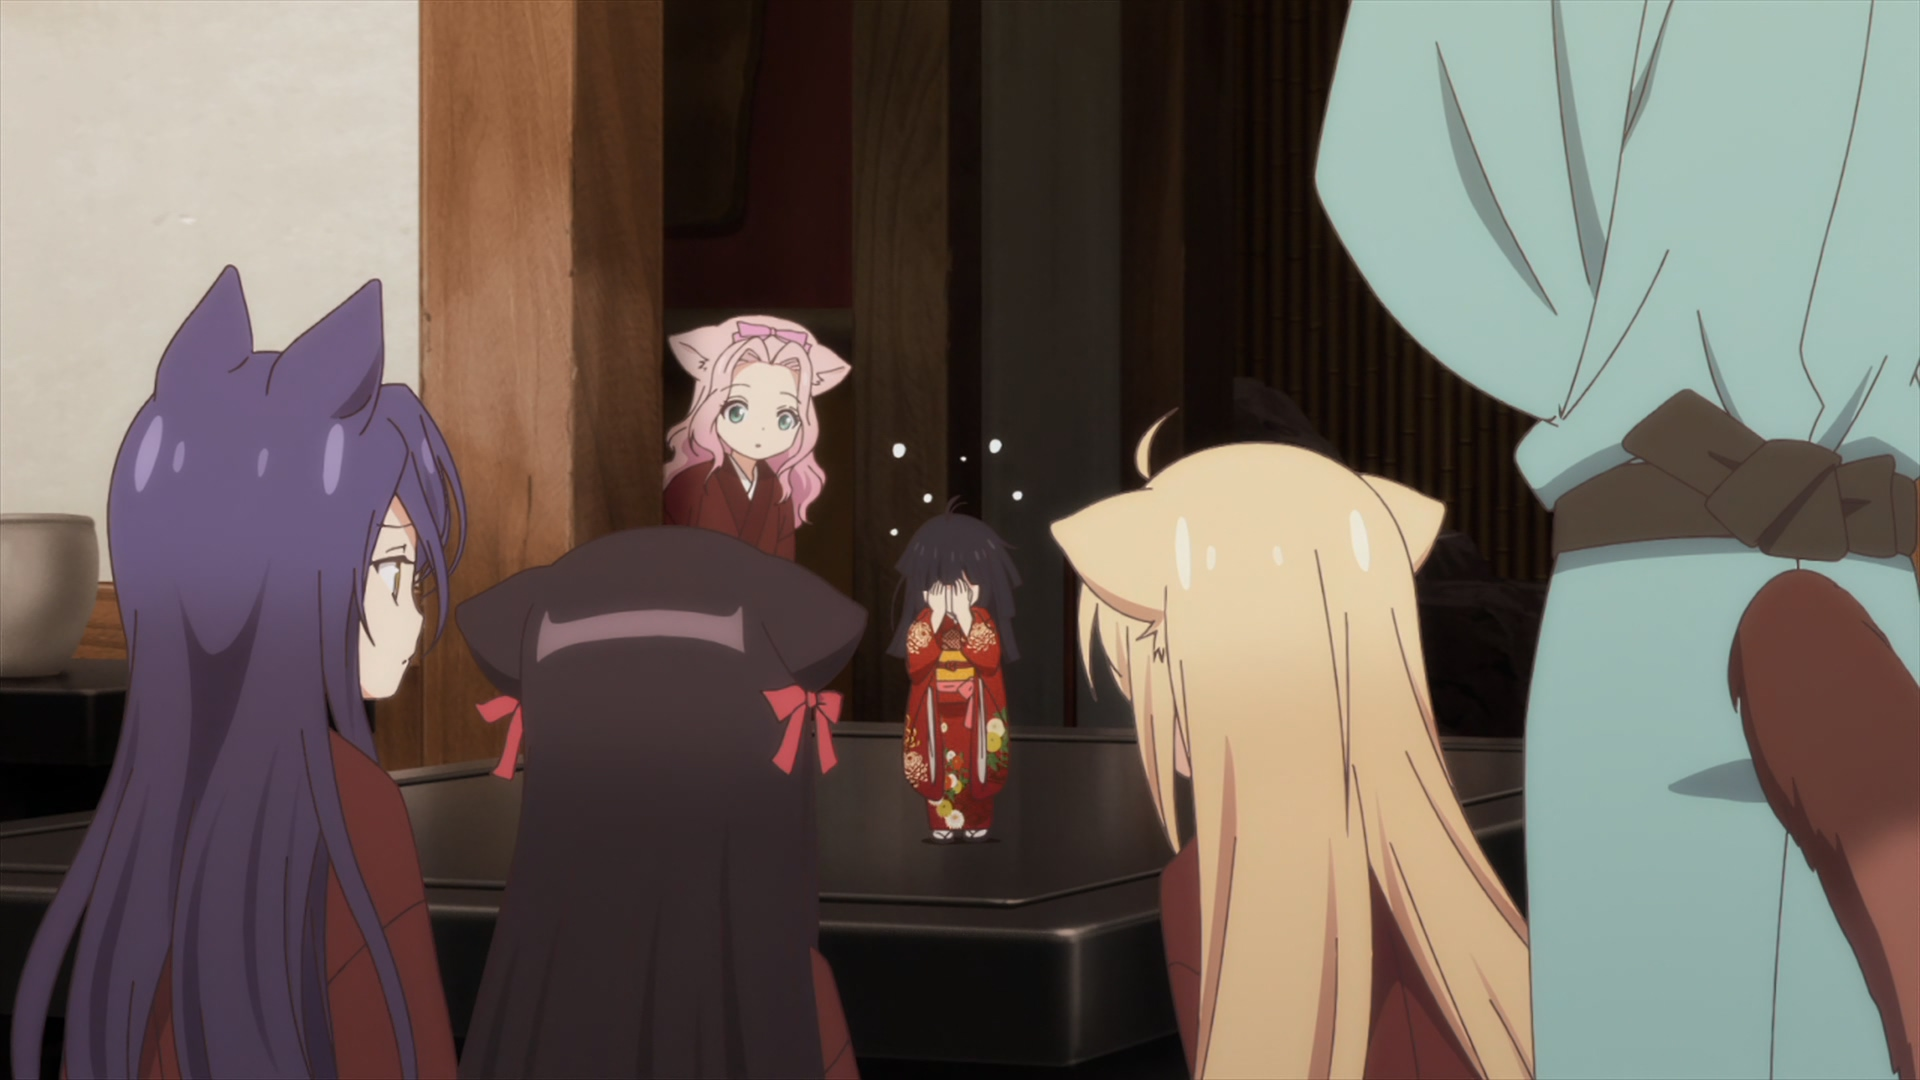枣: (1317, 1, 1920, 1080)
柚: (1052, 400, 1530, 1080)
樱: (452, 527, 866, 1080)
皋: (12, 264, 468, 1080)
莲: (667, 315, 852, 560)
阿菊: (889, 496, 1025, 844)
